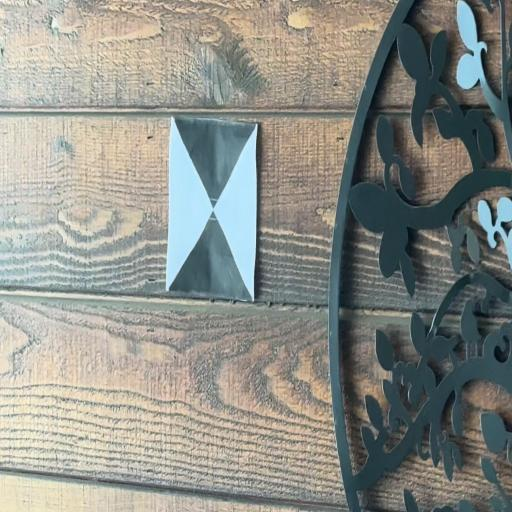target: (169, 115, 257, 301)
